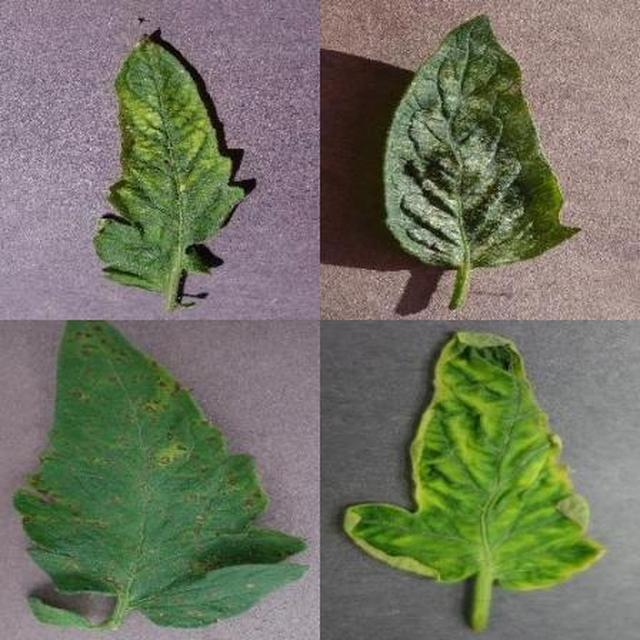Mosaic Virus Leaf: (218, 200, 640, 640)
